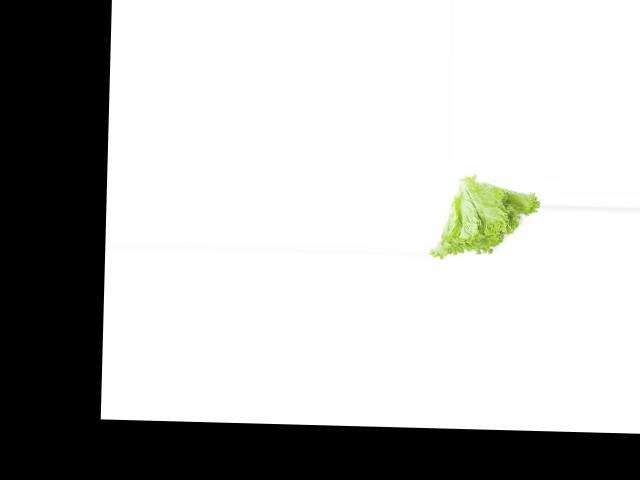lettuce: (428, 176, 542, 264)
